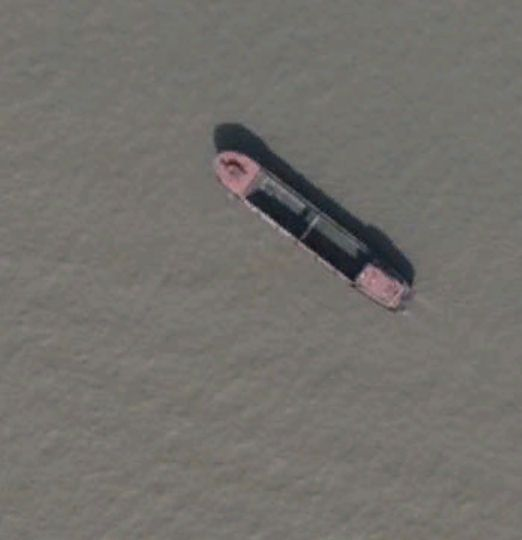boat: (211, 149, 416, 316)
